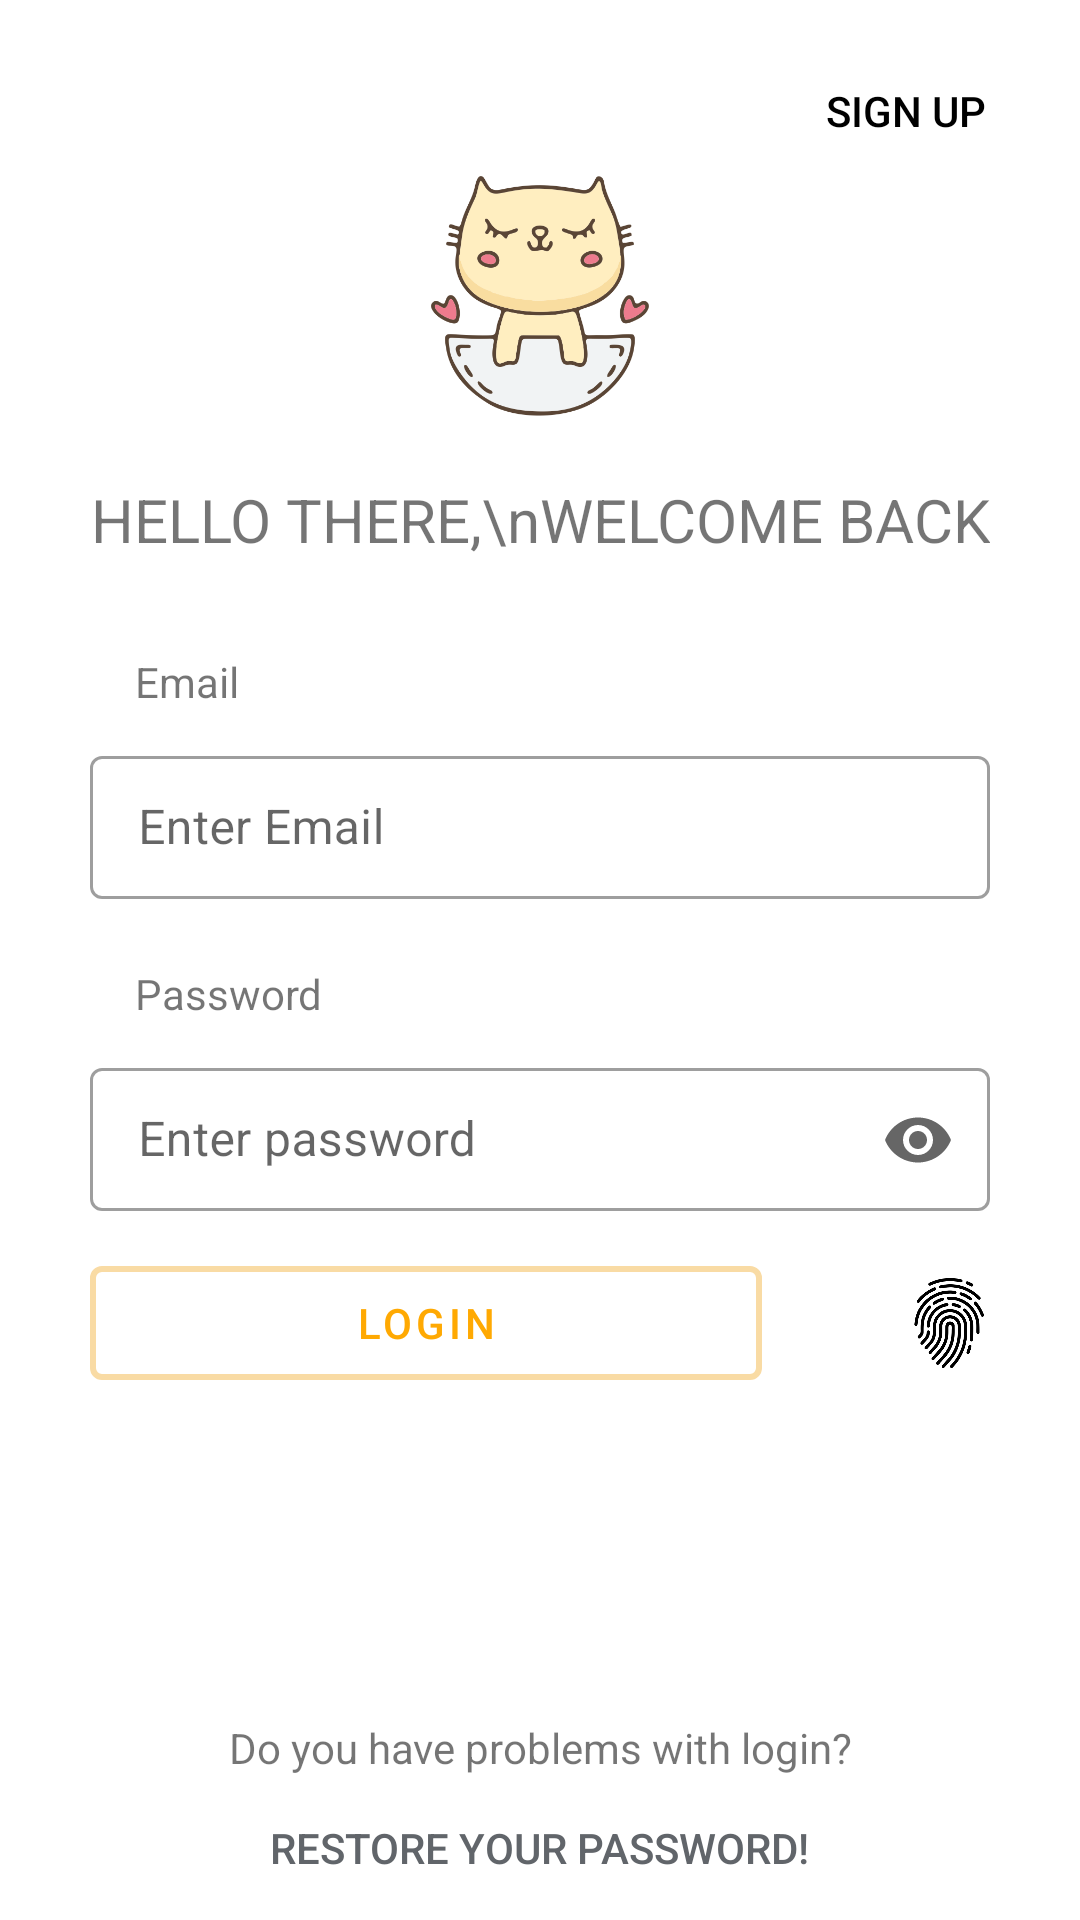

Icon bounding boxes for this 1080 × 1920 phone screenshot, format (x1, y1, x2, y2):
fingerprint: (914, 1278, 984, 1368)
